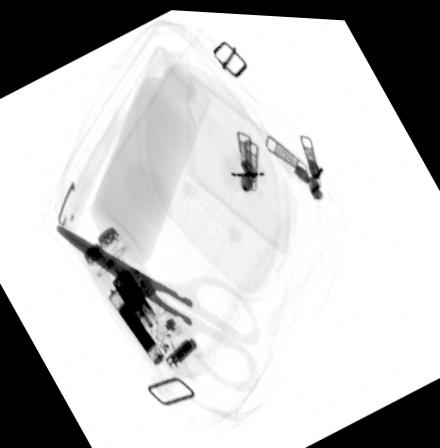Scissors: (55, 220, 263, 386)
